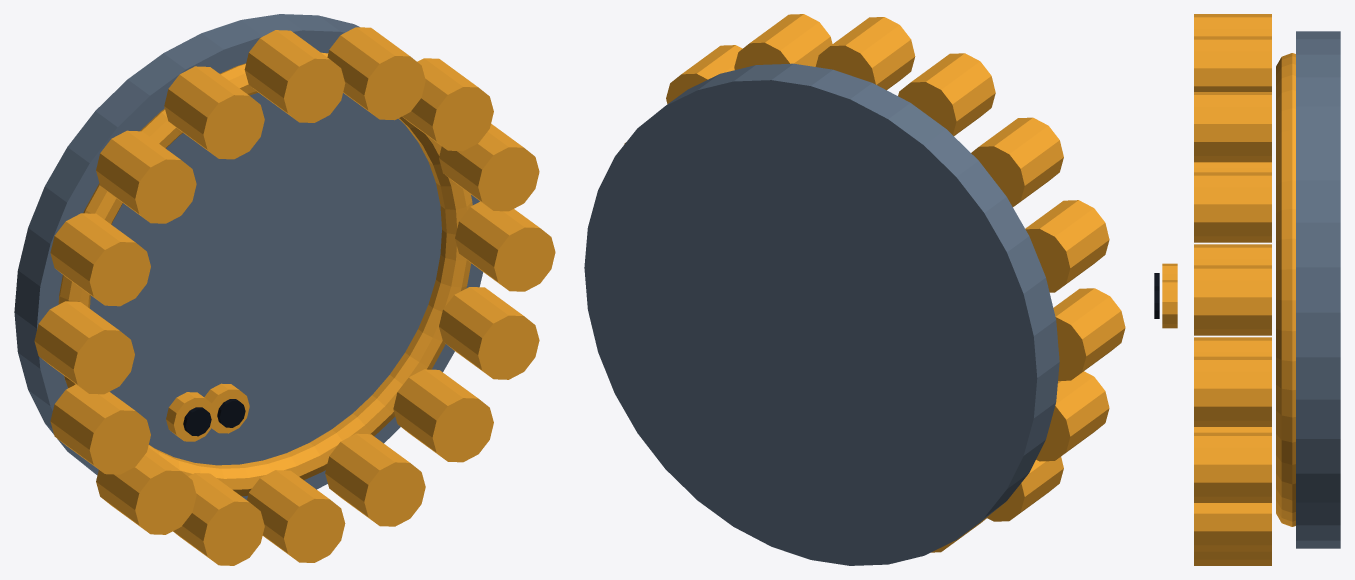
Rendered from 29_L87_EmergencyTouchdownBearing.fbx.
The picture shows the model from 3 angles, left to right: view 1: azimuth 30°, elevation 25°; view 2: azimuth 150°, elevation 25°; view 3: azimuth 270°, elevation 25°; orthographic projection.
Visible parts, largest first — view 1: L87_EmergencyTouchdownBearing_Part_0001, L87_EmergencyTouchdownBearing_Part_0000, L87_EmergencyTouchdownBearing_Part_0002, L87_EmergencyTouchdownBearing_Part_0004; view 2: L87_EmergencyTouchdownBearing_Part_0000, L87_EmergencyTouchdownBearing_Part_0001; view 3: L87_EmergencyTouchdownBearing_Part_0001, L87_EmergencyTouchdownBearing_Part_0000, L87_EmergencyTouchdownBearing_Part_0004, L87_EmergencyTouchdownBearing_Part_0002.
Part boxes in pixels (x1,y1,x2,y2): L87_EmergencyTouchdownBearing_Part_0001: [34, 27, 555, 565]; L87_EmergencyTouchdownBearing_Part_0000: [14, 14, 483, 499]; L87_EmergencyTouchdownBearing_Part_0002: [166, 392, 215, 441]; L87_EmergencyTouchdownBearing_Part_0004: [204, 383, 249, 433]; L87_EmergencyTouchdownBearing_Part_0000: [584, 63, 1059, 565]; L87_EmergencyTouchdownBearing_Part_0001: [624, 14, 1125, 552]; L87_EmergencyTouchdownBearing_Part_0001: [1194, 14, 1295, 565]; L87_EmergencyTouchdownBearing_Part_0000: [1296, 31, 1340, 548]; L87_EmergencyTouchdownBearing_Part_0004: [1162, 280, 1177, 328]; L87_EmergencyTouchdownBearing_Part_0002: [1162, 263, 1177, 279].
Size of the model in its own units: 149 by 149 by 50.2.
